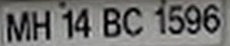character: (6, 11, 31, 43), (31, 9, 51, 41), (122, 6, 142, 37), (102, 6, 121, 38), (73, 8, 92, 37), (202, 3, 220, 33), (168, 4, 184, 34), (185, 4, 201, 34), (153, 6, 166, 35), (61, 8, 73, 38)
